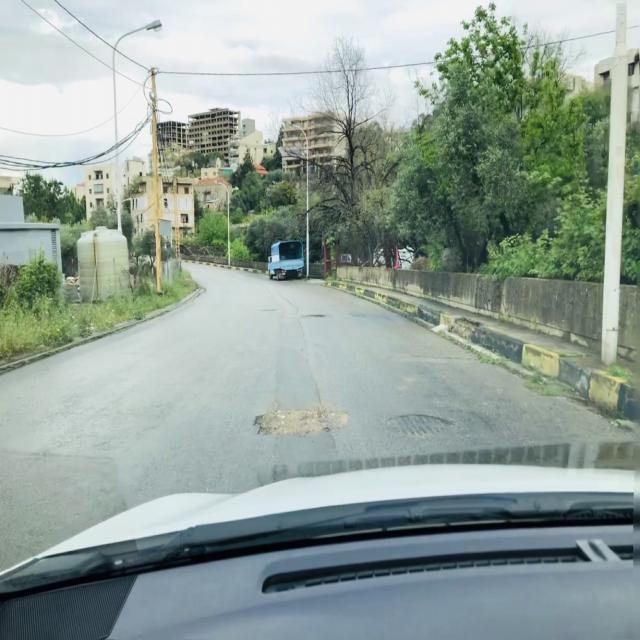pothole: (254, 403, 355, 451)
